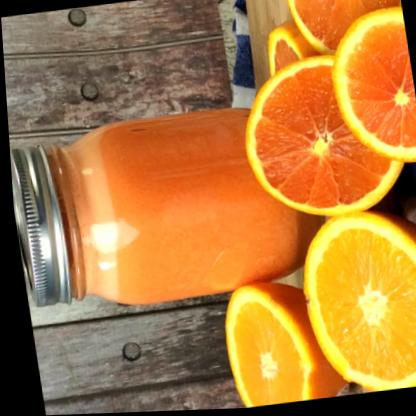orange: (228, 46, 414, 234), (284, 199, 416, 401), (206, 273, 336, 410), (278, 0, 408, 74)
